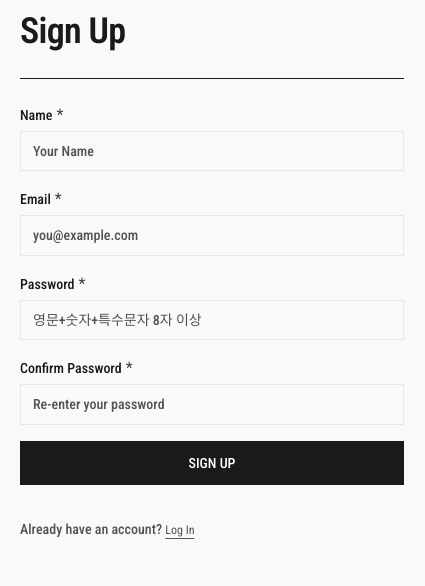
Test: RegisterForm › shows passwordConfirm mismatch error
Type "홍길동" into the field labelled "Name" at (212, 151), box [20,131,404,171]
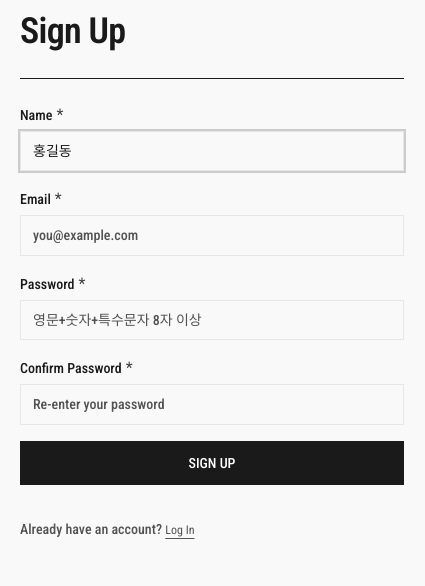
Type "test@example.com" into the field labelled "Email" at (212, 236), box [20,215,404,256]
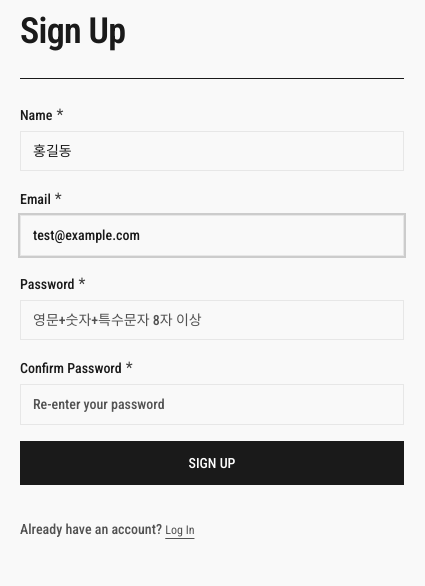
Type "password1" into the password field labelled "Password" at (212, 320), box [20,300,404,340]
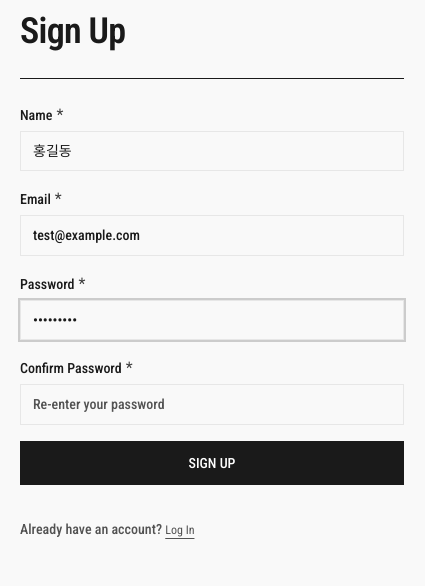
Type "different1" into the password field labelled "Confirm Password" at (212, 404), box [20,384,404,425]
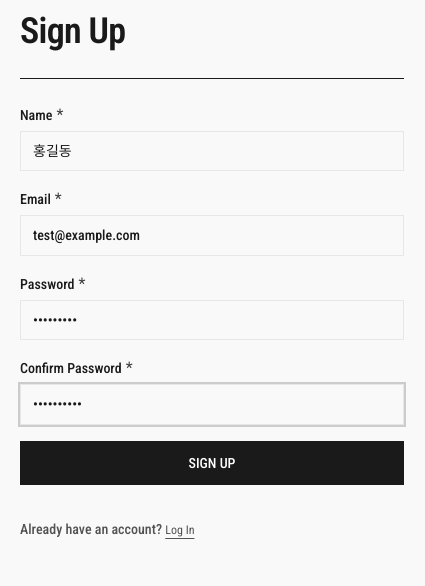
Click the button "Sign Up" at (212, 463), box [20,441,404,485]
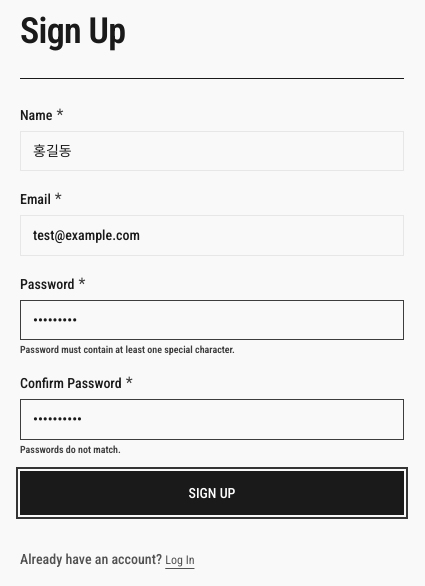
Expected: the text "Passwords do not match." is shown, [20,444,121,455]
